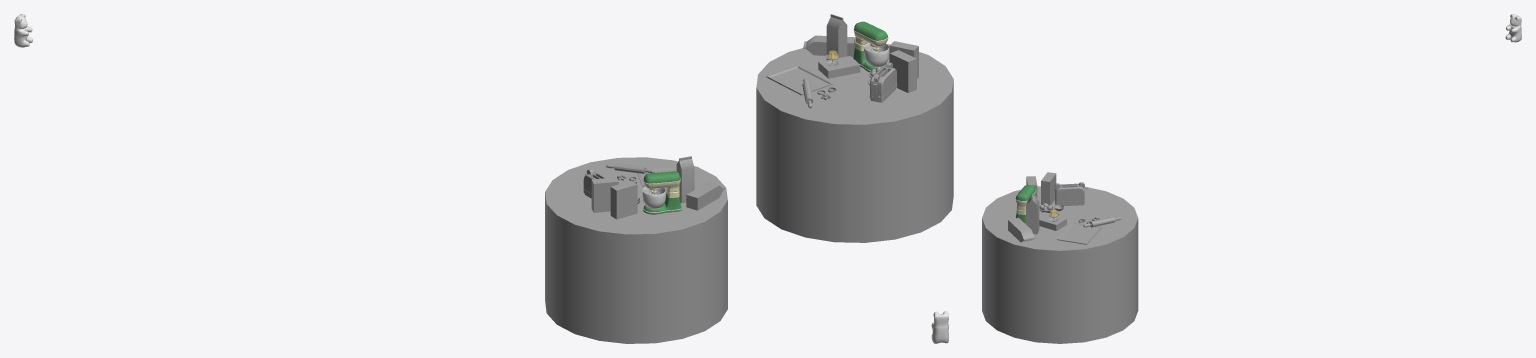
Rendered from play_sstage.fbx.
3 views of the same model, side by side, from view 1: azimuth 30°, elevation 25°; view 2: azimuth 150°, elevation 25°; view 3: azimuth 270°, elevation 25° (orthographic). The views are drawn at different scales.
Parts seen in each view (by area): view 1: stage, Cube, cereal_box1, cereal_box, milk1, milk; view 2: stage, cookie_tray, Cube, cereal_box, milk, toasrer, book, milk1, gummybear, Cylinder, cereal_box1, push_stick; view 3: stage, toasrer, cookie_tray, milk, milk1, cereal_box, Cube.
Part boxes in pixels (left/top/right/bottom): stage: left=545, top=157, right=727, bottom=343; Cube: left=643, top=171, right=681, bottom=214; cereal_box1: left=610, top=180, right=637, bottom=219; cereal_box: left=591, top=177, right=618, bottom=212; milk1: left=686, top=182, right=724, bottom=210; milk: left=676, top=156, right=694, bottom=203; stage: left=756, top=44, right=953, bottom=242; cookie_tray: left=766, top=65, right=832, bottom=95; Cube: left=853, top=21, right=888, bottom=72; cereal_box: left=889, top=50, right=916, bottom=92; milk: left=826, top=14, right=847, bottom=60; toasrer: left=869, top=62, right=897, bottom=102; book: left=818, top=56, right=860, bottom=78; milk1: left=803, top=35, right=854, bottom=56; gummybear: left=931, top=311, right=948, bottom=343; Cylinder: left=864, top=43, right=889, bottom=67; cereal_box1: left=889, top=41, right=918, bottom=78; push_stick: left=802, top=78, right=813, bottom=108; stage: left=982, top=186, right=1138, bottom=343; toasrer: left=1054, top=182, right=1087, bottom=205; cookie_tray: left=1057, top=222, right=1102, bottom=244; milk: left=1026, top=193, right=1039, bottom=234; milk1: left=1008, top=218, right=1035, bottom=242; cereal_box: left=1041, top=172, right=1056, bottom=205; Cube: left=1015, top=185, right=1035, bottom=223.
Size of the model in its own units: 5974 by 2348 by 7573.
